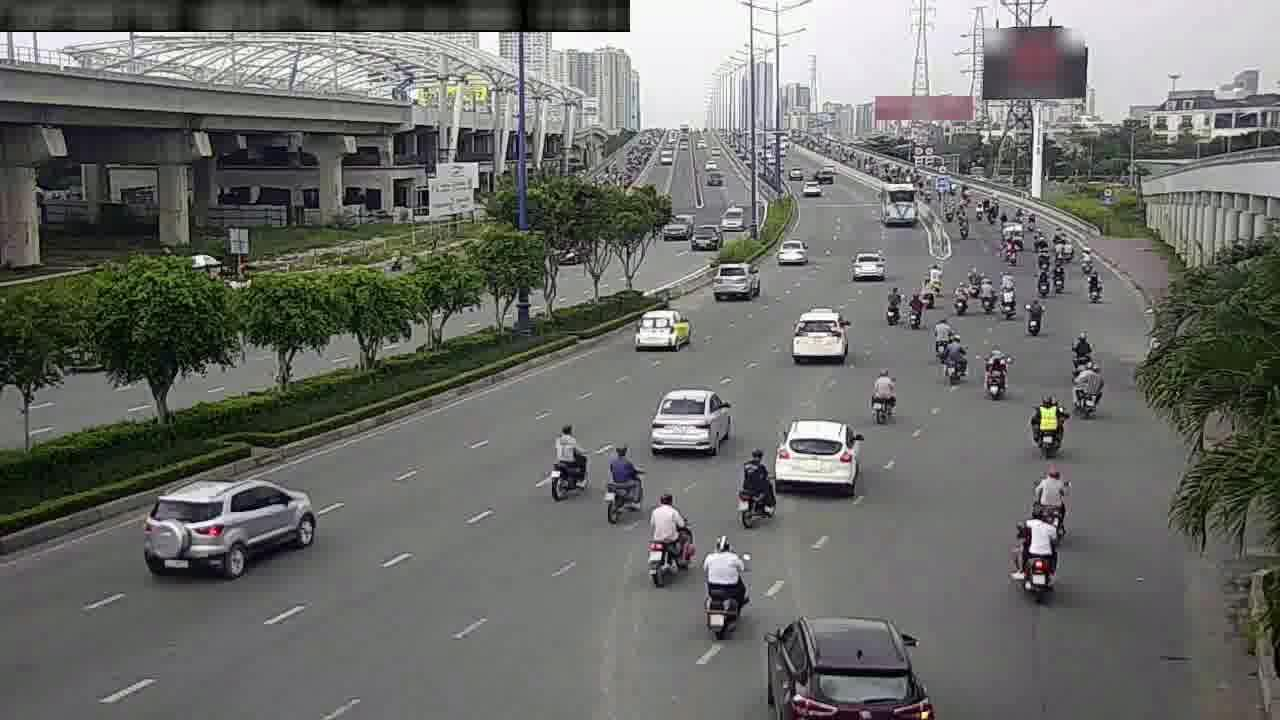container: (138, 470, 333, 576), (766, 602, 924, 707), (766, 411, 868, 495), (646, 387, 730, 458), (781, 300, 852, 368), (624, 301, 701, 359), (705, 257, 766, 306), (770, 230, 814, 272), (848, 250, 888, 278)
motorbike: (1006, 510, 1064, 597), (698, 537, 750, 629), (639, 493, 692, 578), (537, 424, 592, 501), (598, 445, 647, 520), (730, 448, 778, 520), (1022, 391, 1067, 454), (1062, 354, 1106, 415), (1031, 467, 1075, 524), (864, 366, 901, 422), (976, 347, 1012, 401), (1064, 322, 1099, 369), (944, 336, 971, 390), (1018, 294, 1048, 337), (877, 284, 907, 326), (991, 280, 1020, 323), (1079, 265, 1108, 306), (900, 292, 928, 333), (948, 274, 975, 315), (930, 313, 951, 363), (973, 275, 997, 315), (923, 260, 948, 297)
